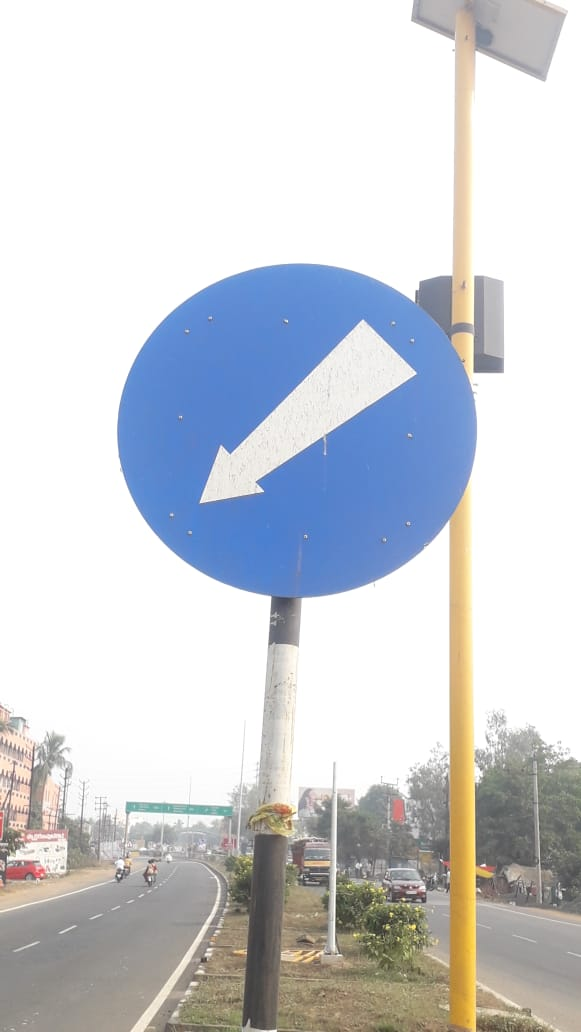go left: (110, 238, 489, 636)
